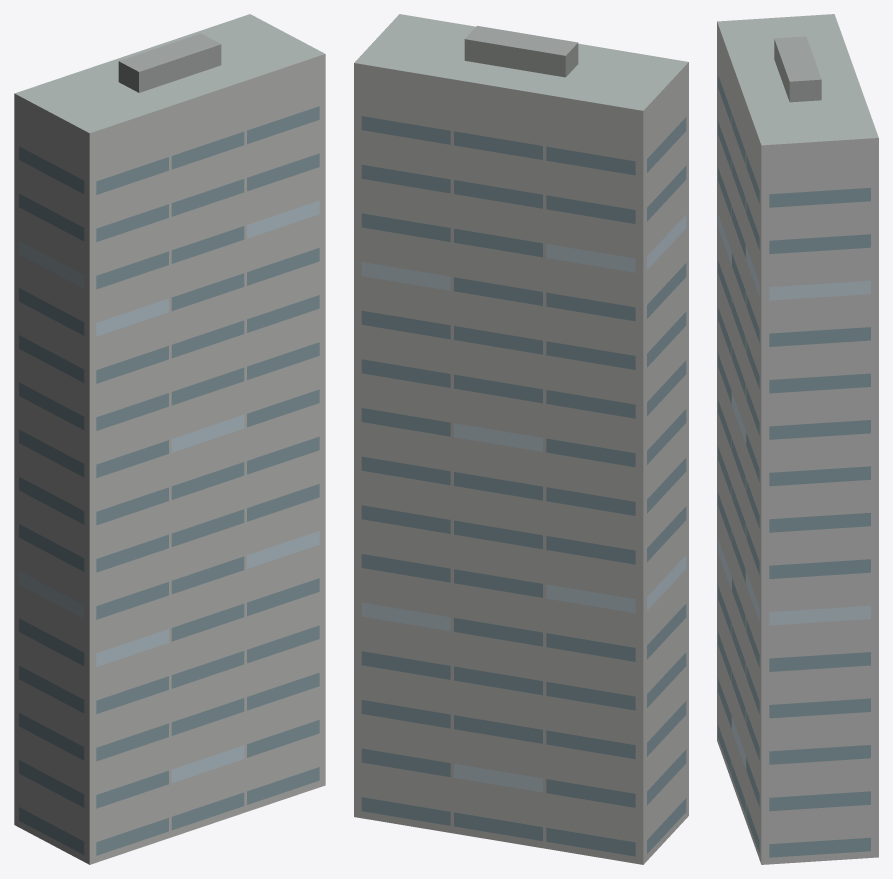
The model's file is fallback-jamsil-parkrio-302.glb.
3 views of the same model, side by side, from view 1: azimuth 30°, elevation 25°; view 2: azimuth 150°, elevation 25°; view 3: azimuth 270°, elevation 25° (orthographic). The views are drawn at different scales.
Parts seen in each view (by area): view 1: fallback-jamsil-parkrio-302; view 2: fallback-jamsil-parkrio-302; view 3: fallback-jamsil-parkrio-302.
Boxes of the visible parts, <box> form: fallback-jamsil-parkrio-302: <box>14,14,325,864</box>; fallback-jamsil-parkrio-302: <box>354,14,688,864</box>; fallback-jamsil-parkrio-302: <box>717,14,878,864</box>.
Size of the model in its own units: 32.75 by 86 by 17.03.
